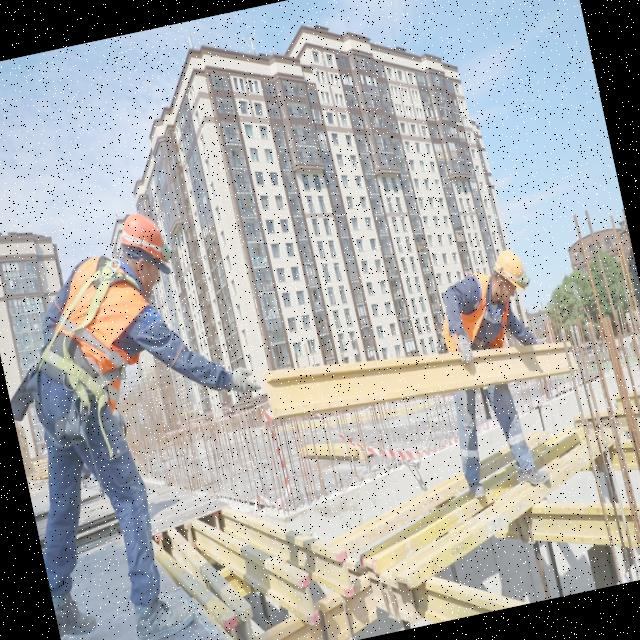Helmet: (118, 209, 176, 282), (490, 248, 533, 295)
Jacket: (26, 259, 164, 394), (436, 271, 510, 355)
